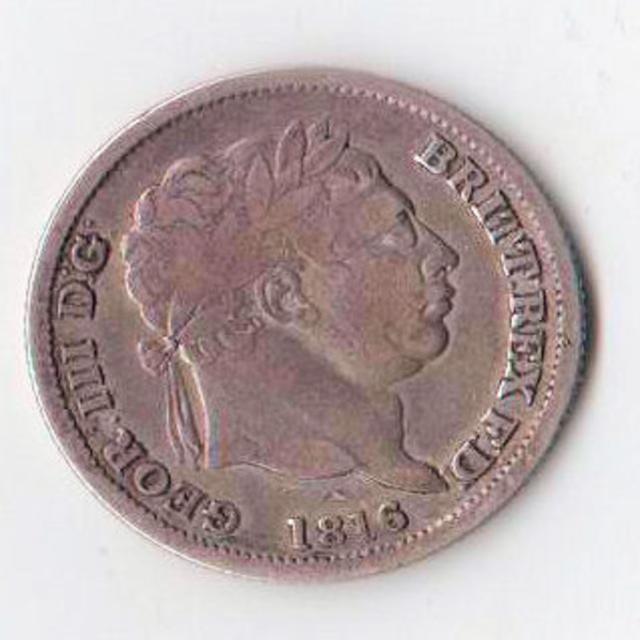Coin: (28, 73, 590, 582)
